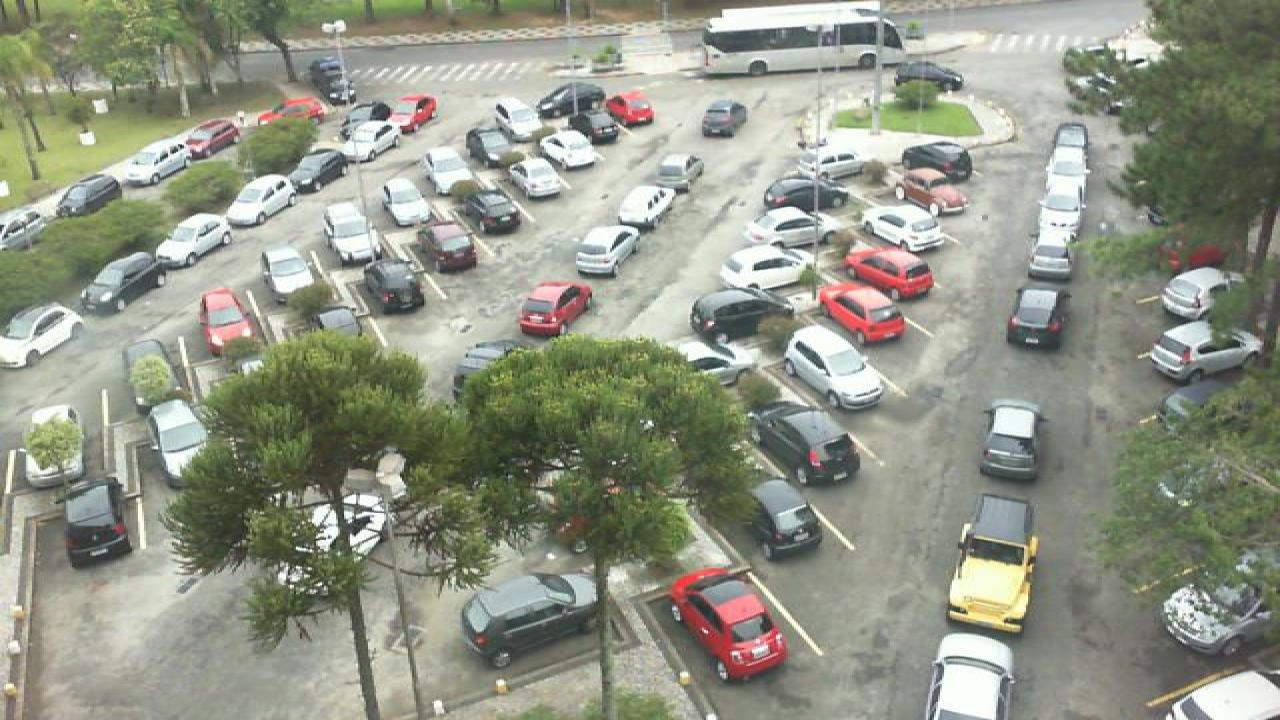Car: (944, 492, 1044, 636), (666, 565, 788, 683), (460, 572, 602, 668), (750, 397, 862, 485), (780, 324, 886, 411), (1160, 580, 1276, 656), (924, 631, 1016, 720), (1150, 319, 1264, 386), (54, 478, 132, 569), (748, 478, 824, 562), (144, 398, 212, 487), (20, 404, 90, 488), (0, 301, 84, 368), (812, 286, 908, 344), (688, 288, 796, 339), (78, 251, 164, 315), (978, 400, 1044, 483), (1158, 264, 1246, 324), (842, 245, 936, 299), (716, 244, 810, 294), (150, 213, 232, 270), (518, 281, 596, 340), (222, 174, 300, 229), (1004, 285, 1068, 352), (738, 206, 828, 252), (862, 204, 948, 252), (198, 287, 256, 357), (260, 246, 320, 313), (320, 200, 376, 266), (572, 224, 640, 278), (894, 168, 970, 216), (360, 258, 424, 315), (120, 137, 194, 181), (416, 220, 478, 272), (52, 175, 122, 221), (614, 182, 676, 232), (764, 176, 850, 212), (460, 190, 524, 238), (900, 141, 974, 182), (1034, 189, 1090, 242), (504, 156, 568, 200), (1024, 231, 1078, 282), (338, 118, 398, 163), (378, 178, 432, 227), (422, 146, 476, 194), (180, 118, 240, 161), (538, 129, 598, 170), (536, 82, 608, 115), (796, 151, 870, 182), (464, 124, 516, 168), (310, 56, 354, 107), (382, 93, 438, 133), (654, 153, 706, 193), (1044, 153, 1090, 198), (494, 100, 544, 140), (604, 90, 658, 127), (570, 110, 622, 148), (254, 96, 328, 122), (702, 99, 750, 137), (1052, 123, 1090, 163)
